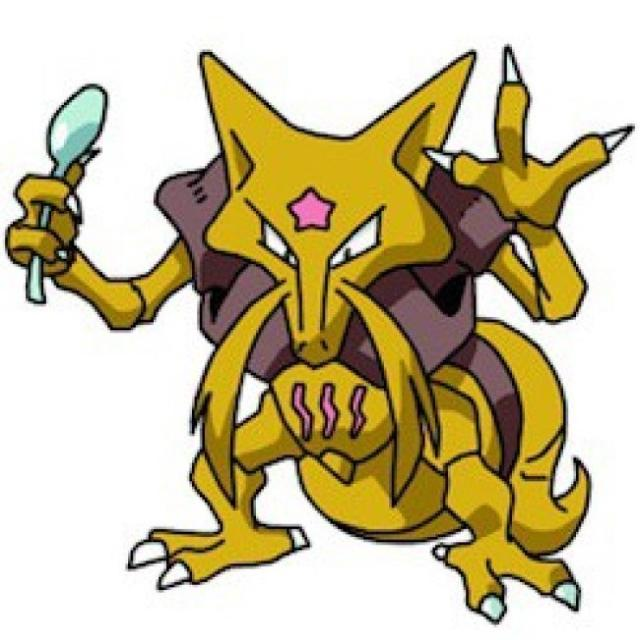Kadabra: (128, 48, 593, 582)
